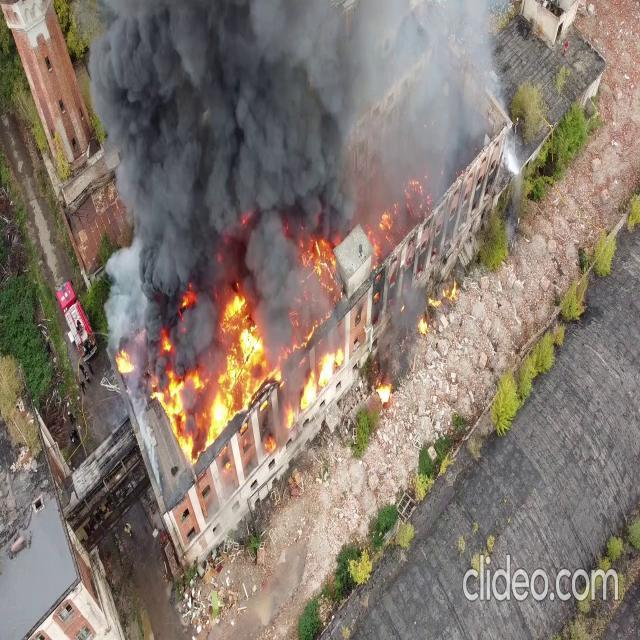Fire: (149, 264, 356, 470), (300, 227, 339, 282), (371, 374, 395, 409), (114, 346, 138, 378)
Smoke: (51, 1, 522, 329)
